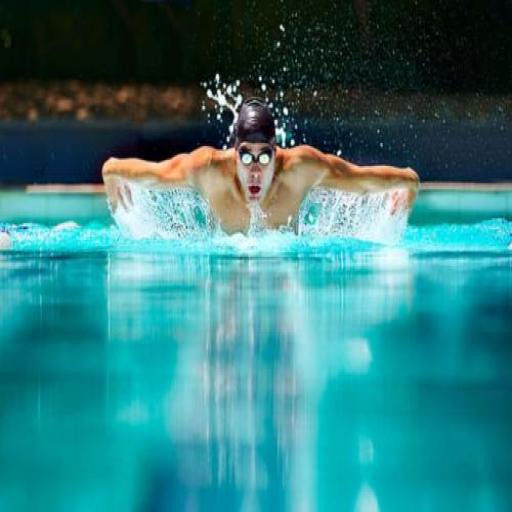swimming: (99, 95, 421, 243)
